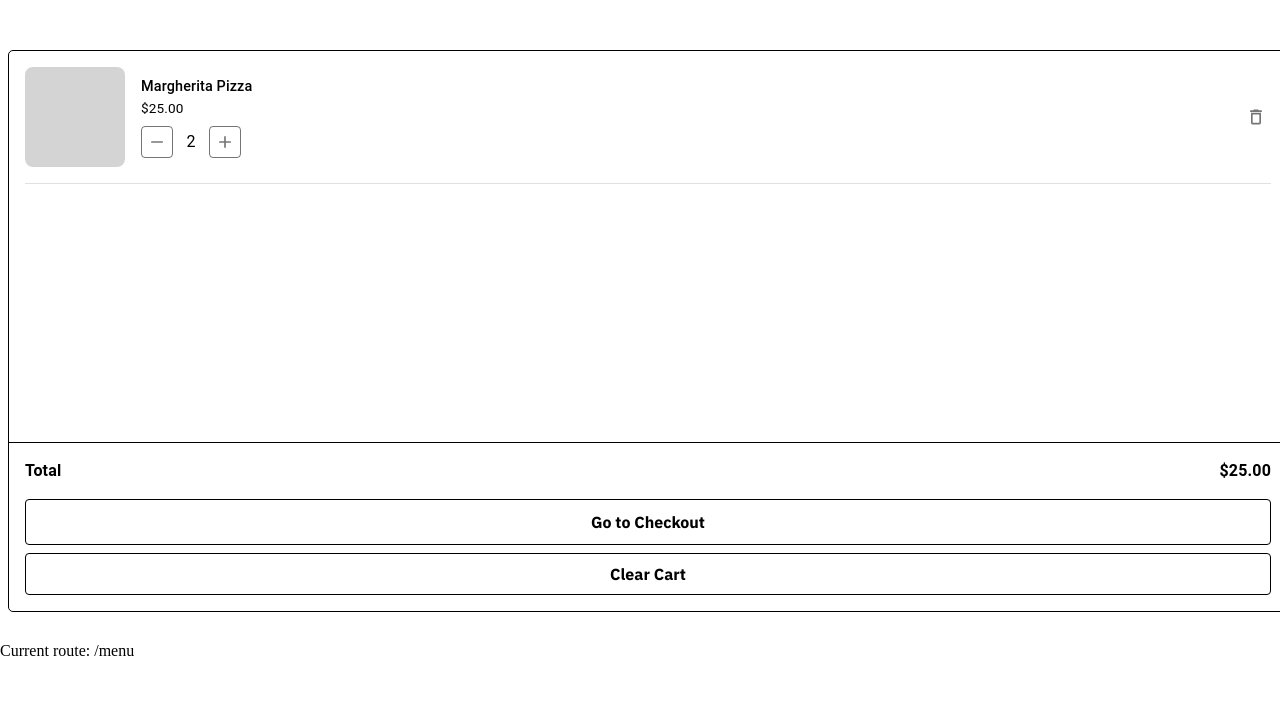
Cart › shows the login dialog instead of navigating when checkout requires auth
Click the button "Go to Checkout" at (648, 522), box [25, 499, 1271, 545]
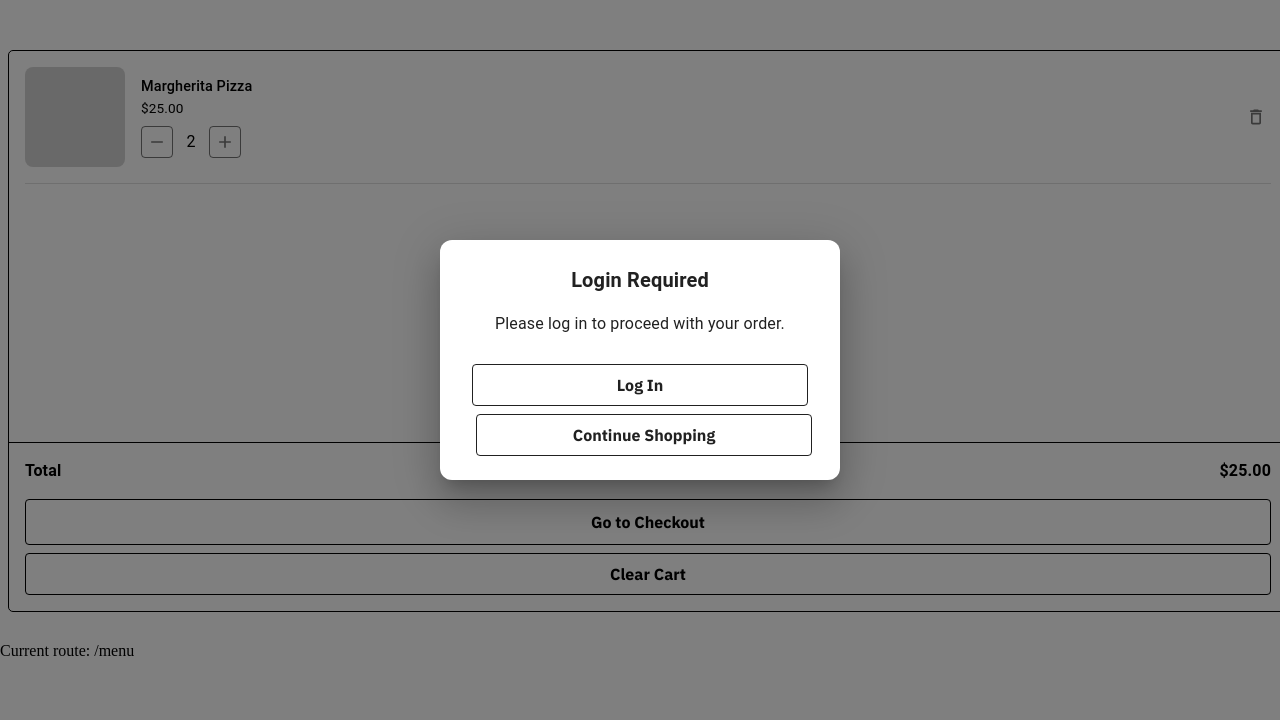
Check: the text "Current route: /menu" is shown, box [0, 642, 134, 659]
Check: the heading "Login Required" is shown, box [571, 268, 709, 292]
